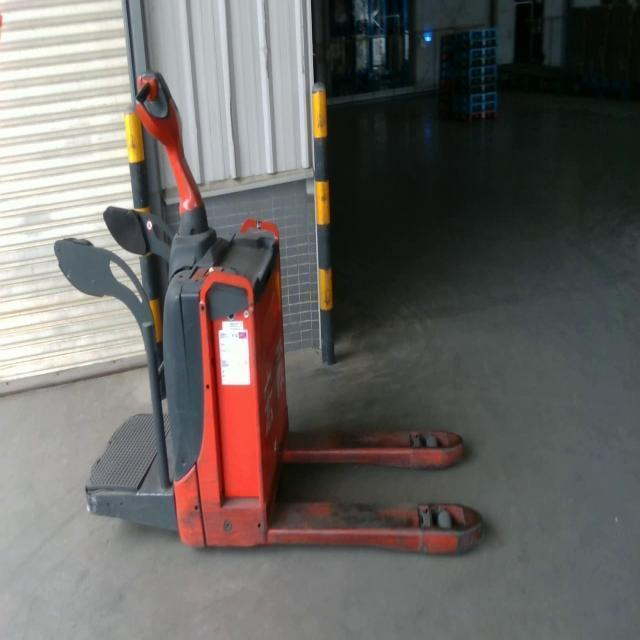forklift: (54, 69, 486, 559)
